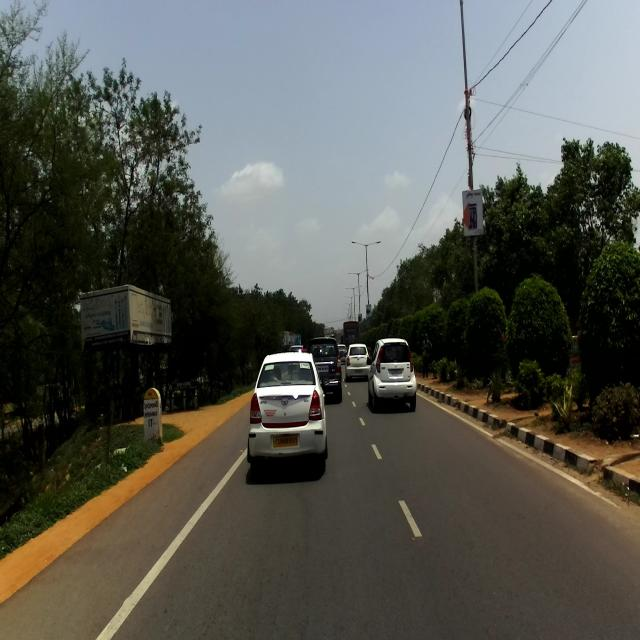Car_Maruti-Suzuki: (368, 336, 419, 414)
Car_Toyota: (246, 351, 330, 476), (307, 335, 344, 403), (344, 342, 371, 382)
